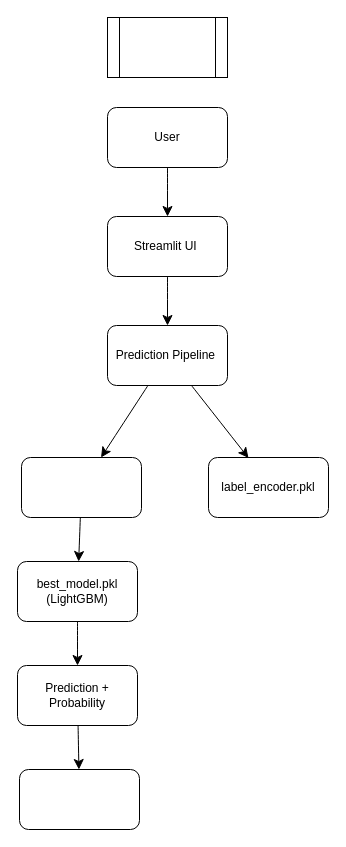
This 346x847 diagram has some shape labels left out. Here are the shapes that lost their labels. From the top down, the centre of each, then its label:
At point 167,47: "SYSTEM ARCHITECTURE".
At point 81,487: "preprocessor.pkl".
At point 79,799: "Recommendation".
